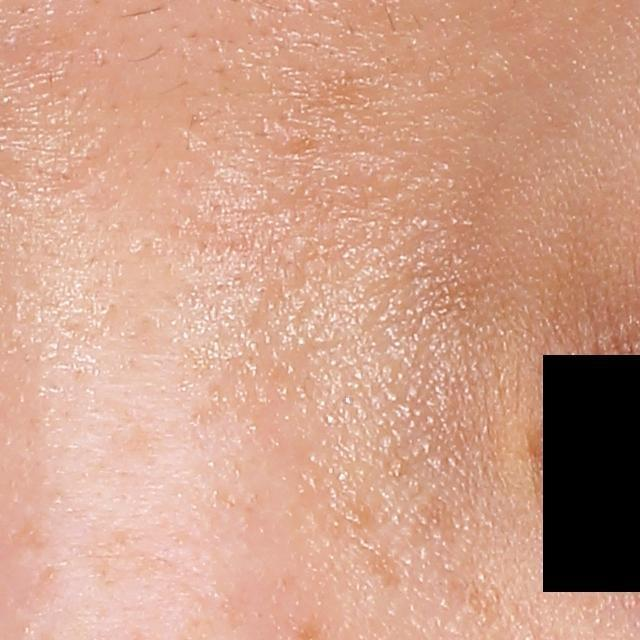melasma: (78, 513, 186, 587), (446, 571, 510, 618), (8, 517, 61, 558), (367, 547, 405, 589)
